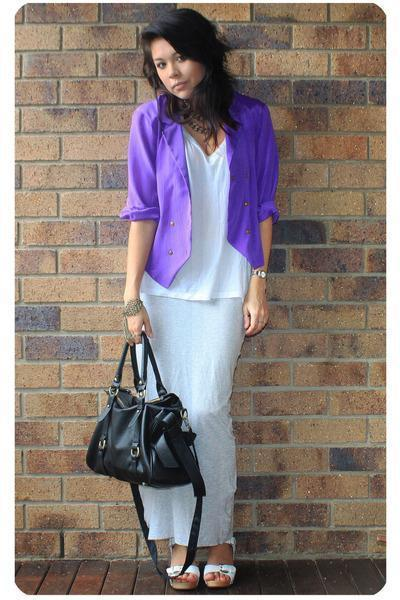bag: (86, 362, 209, 552)
jacket: (119, 89, 278, 288)
shirt: (140, 139, 246, 318)
shoe: (156, 550, 235, 599)
skirt: (132, 300, 243, 545)
